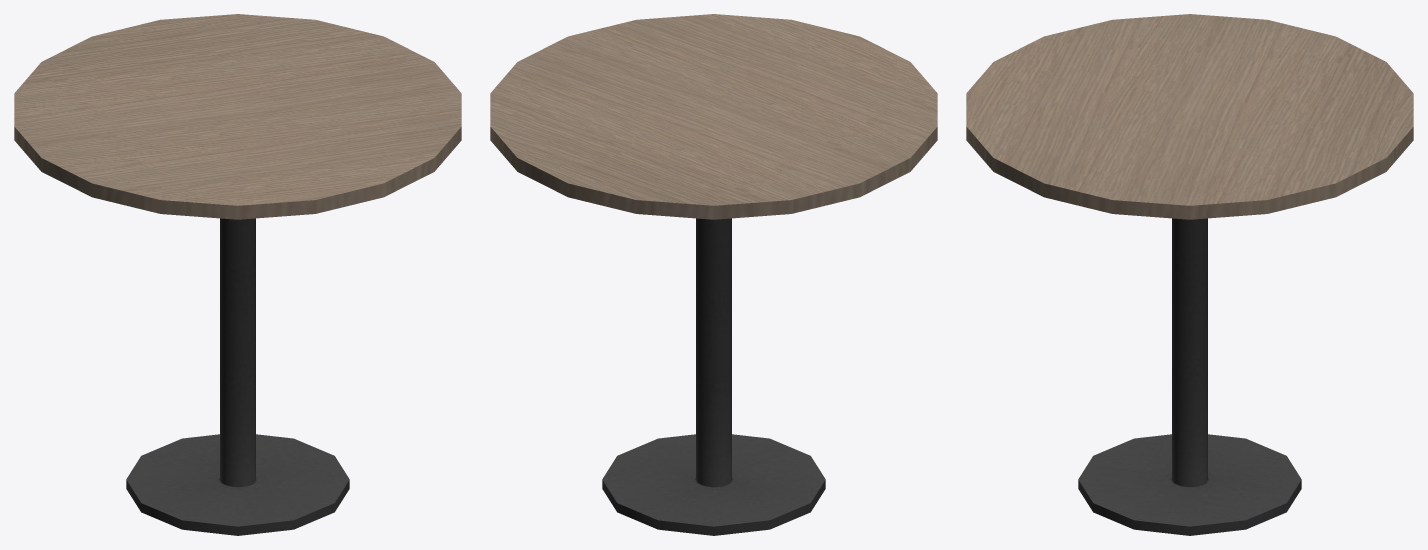
File: Table_Round.gltf
3 renders of one model, left to right at view 1: azimuth 30°, elevation 25°; view 2: azimuth 150°, elevation 25°; view 3: azimuth 270°, elevation 25°, orthographic.
Visible parts, largest first — view 1: roundTable; view 2: roundTable; view 3: roundTable.
Boxes of the visible parts, left/top/right/bottom form: roundTable: left=14, top=14, right=461, bottom=535; roundTable: left=490, top=14, right=937, bottom=535; roundTable: left=966, top=14, right=1413, bottom=535.
Bounding box in the file's own units: 7.93 × 7.3 × 7.81.
Materials: 1 (1 with a texture image).
